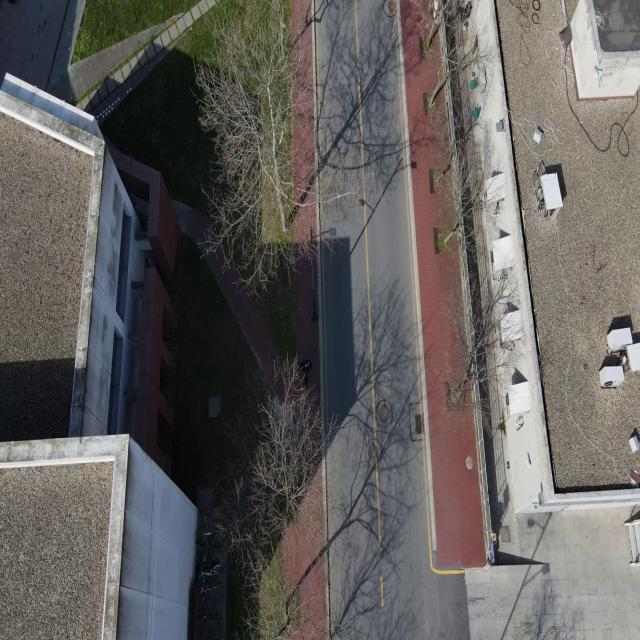p3rson: (459, 0, 473, 24)
